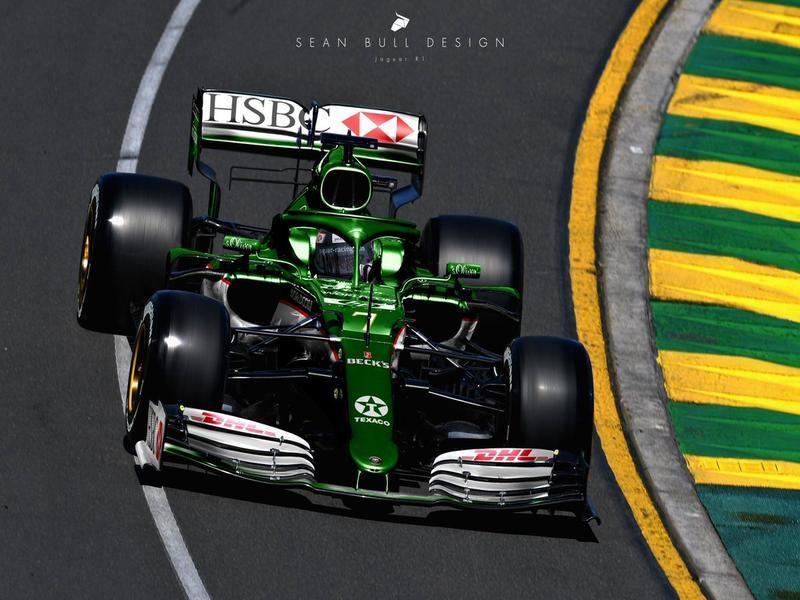f1: (75, 87, 627, 546)
